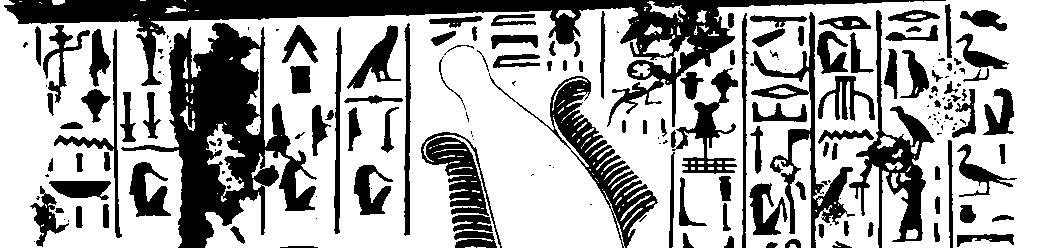Mouth: (749, 84, 810, 100), (886, 9, 940, 23)
Owl: (345, 25, 403, 90)
Reed: (90, 29, 111, 88), (310, 103, 328, 157), (884, 47, 901, 100), (347, 107, 364, 155)
Water: (53, 133, 115, 152), (818, 128, 875, 142)
